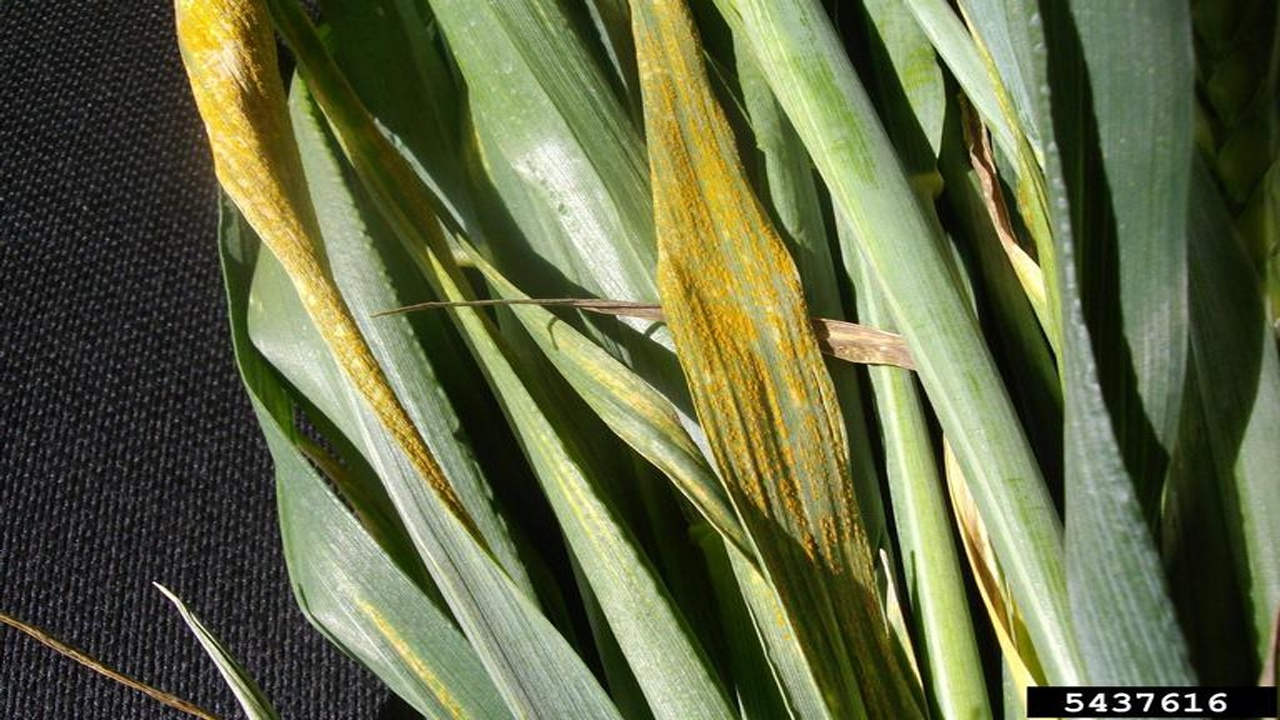stripe_rust: (629, 2, 910, 720), (174, 3, 463, 522), (459, 237, 740, 540), (251, 407, 492, 720)
